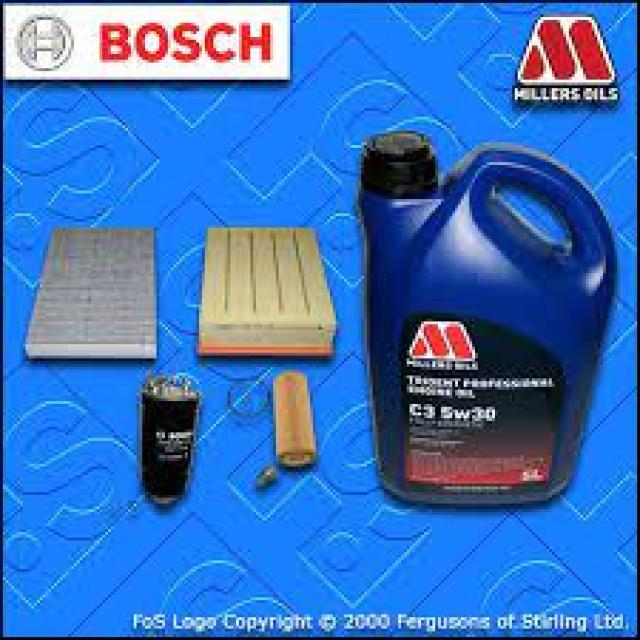air_filter: (15, 222, 164, 361), (196, 217, 328, 357)
motor_oil: (358, 128, 614, 516)
oil_filter: (136, 378, 203, 511), (268, 369, 333, 477)
